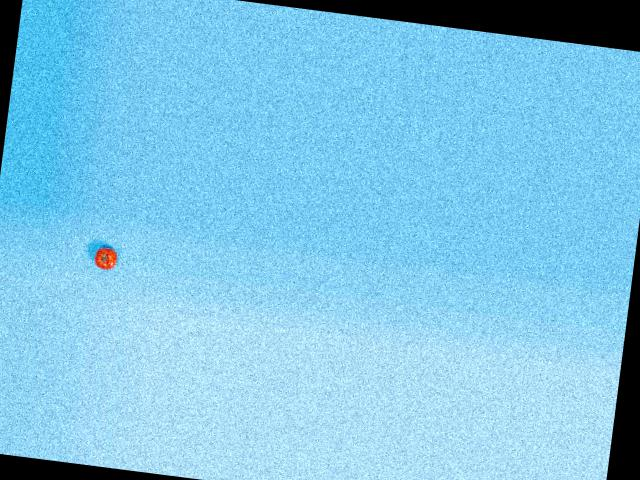tomato: (92, 246, 117, 270)
